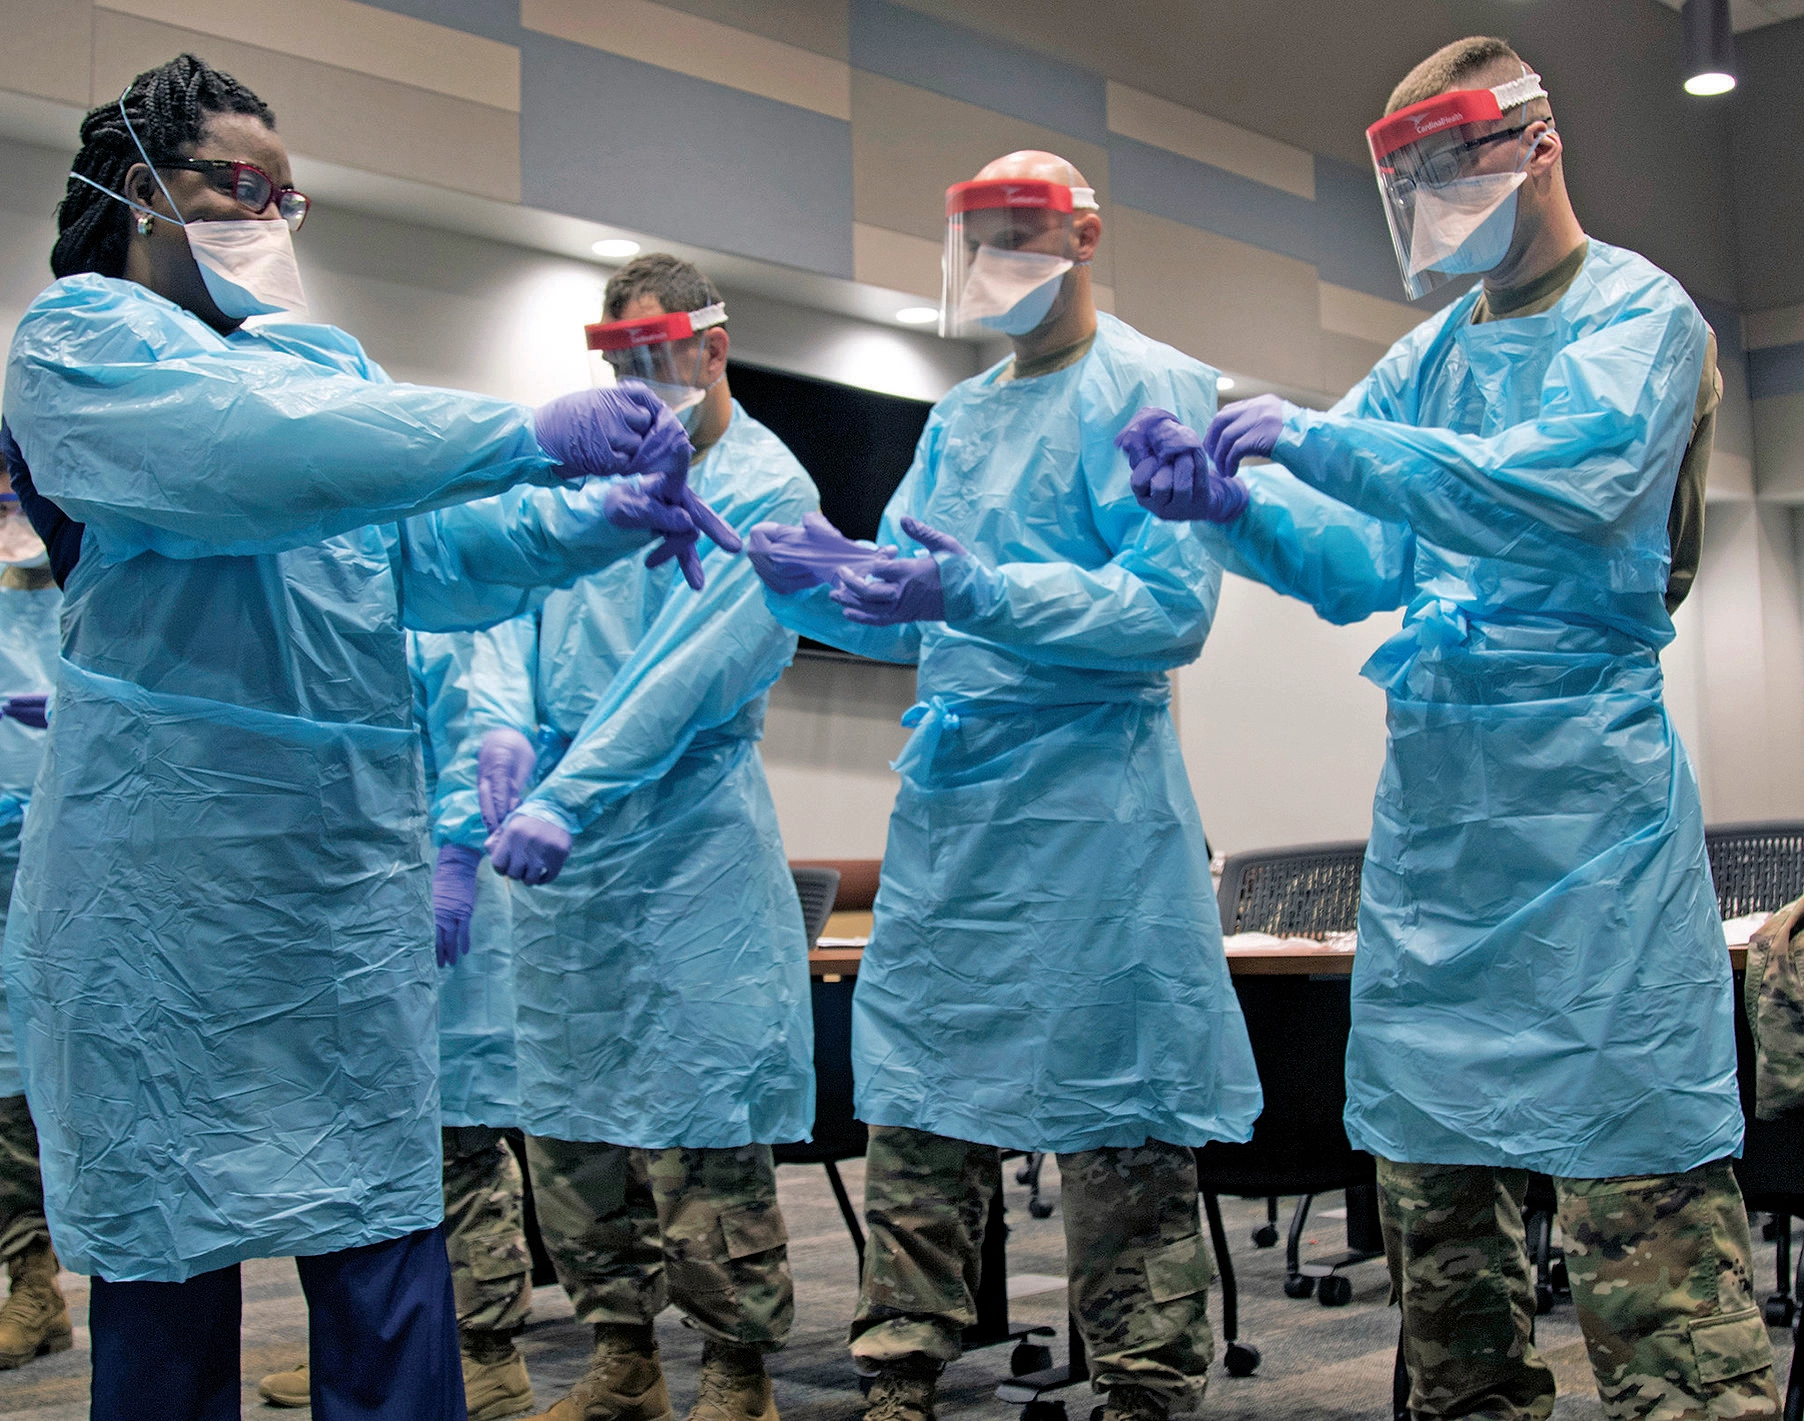Coverall: (15, 293, 464, 1242), (1329, 261, 1744, 1170), (901, 349, 1206, 1135), (513, 603, 803, 1147)
Gloves: (607, 461, 737, 593), (532, 386, 703, 484), (841, 512, 973, 633), (748, 495, 860, 602)
Goggles: (1122, 412, 1236, 535), (1208, 375, 1289, 472)
with_mask: (180, 181, 310, 330), (1408, 152, 1532, 283), (955, 236, 1078, 347)
